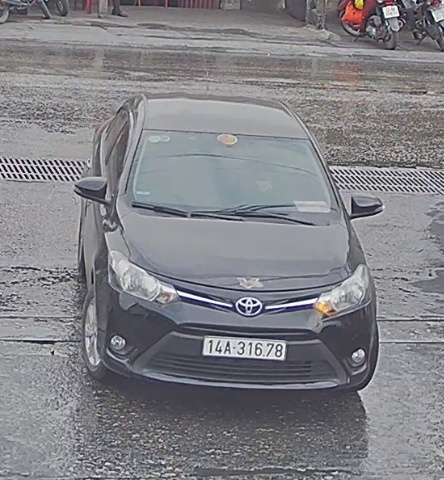vehicle plate: (198, 330, 291, 364)
